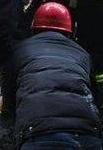hard-hat: (30, 1, 73, 33)
ppe-suit: (0, 0, 52, 129)
